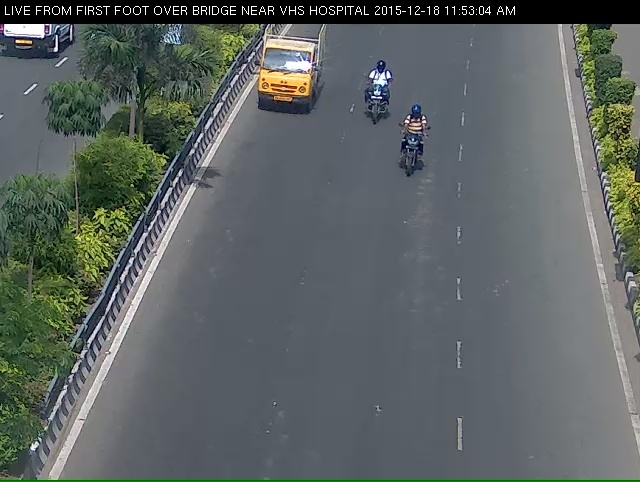Car: (252, 20, 326, 132)
Person: (354, 64, 387, 144), (398, 119, 430, 197)
